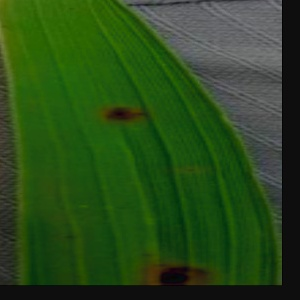Bacterial_Leaf_Blight: (98, 99, 153, 126), (152, 268, 192, 285), (173, 260, 210, 278), (61, 230, 82, 243), (180, 164, 198, 176), (113, 202, 131, 214), (64, 2, 79, 13), (138, 251, 156, 259), (153, 261, 170, 269), (0, 22, 11, 31)
